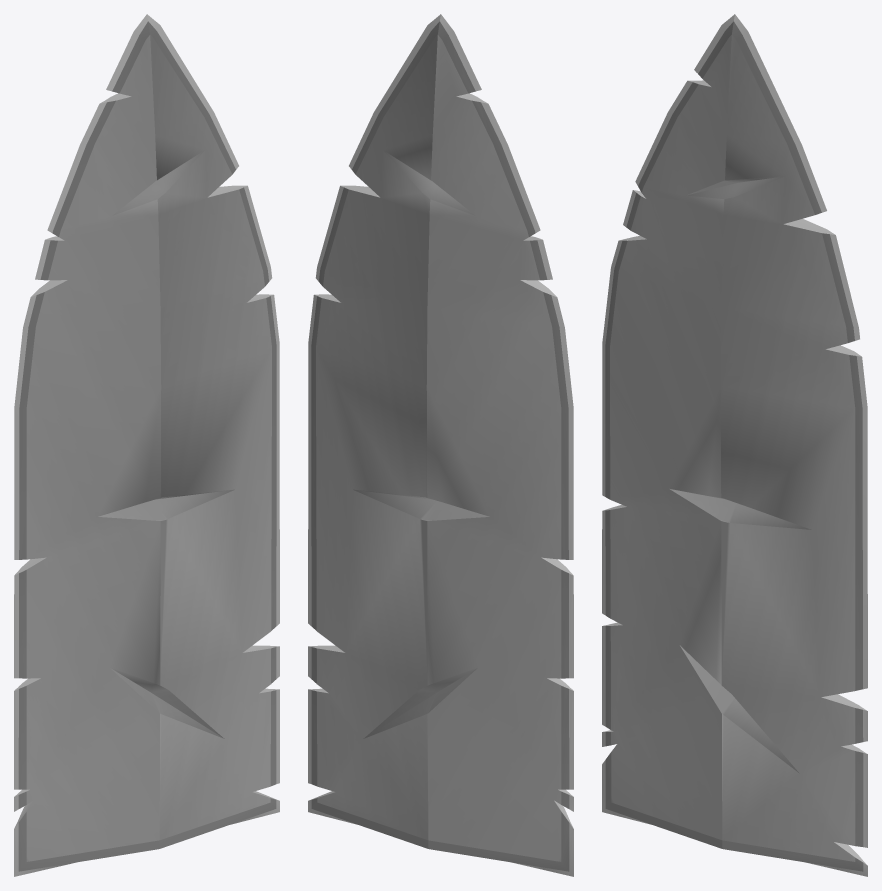
File: stone_blade_scratched_054.glb
The picture shows the model from 3 angles, left to right: view 1: azimuth 30°, elevation 25°; view 2: azimuth 150°, elevation 25°; view 3: azimuth 330°, elevation 25°; orthographic projection.
Parts seen in each view (by area): view 1: stone_blade_scratched.054; view 2: stone_blade_scratched.054; view 3: stone_blade_scratched.054.
Boxes of the visible parts, x1,y1,x2,y2 form: stone_blade_scratched.054: (14,14,279,876); stone_blade_scratched.054: (308,14,573,876); stone_blade_scratched.054: (602,14,867,876).
Bounding box in the file's own units: 3.82 × 11.43 × 0.706.
Materials: 1 (1 with a texture image).
